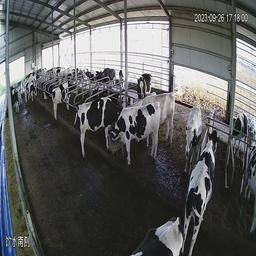cow: (180, 130, 222, 254), (107, 101, 163, 169), (76, 96, 117, 159), (132, 90, 177, 146), (182, 101, 203, 176), (51, 80, 77, 122), (229, 110, 250, 161), (135, 72, 152, 103), (98, 67, 116, 91), (86, 68, 103, 91), (118, 65, 131, 93), (23, 82, 38, 104), (6, 92, 21, 113), (41, 84, 58, 101)
